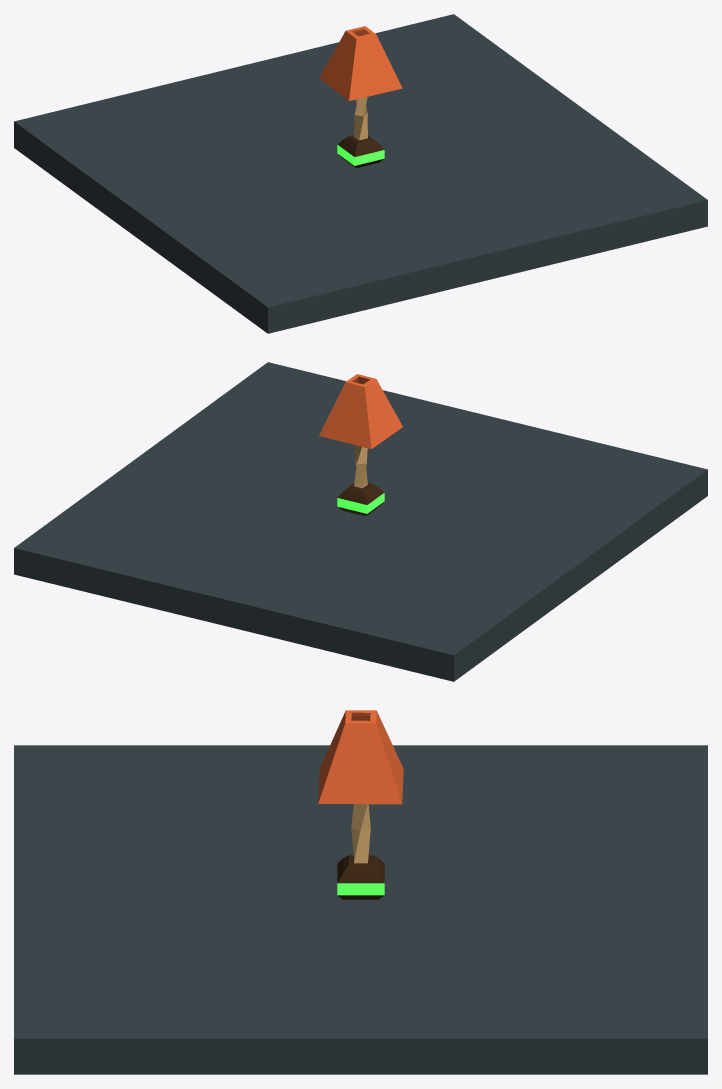
File: lamp2.glb
3 views of the same model, one above another, from view 1: azimuth 30°, elevation 25°; view 2: azimuth 150°, elevation 25°; view 3: azimuth 270°, elevation 25° (orthographic). The views are drawn at different scales.
Parts seen in each view (by area): view 1: Cube; view 2: Cube; view 3: Cube.
Boxes of the visible parts, x1=… form: Cube: x1=14, y1=14, x2=707, y2=333; Cube: x1=14, y1=362, x2=707, y2=681; Cube: x1=14, y1=710, x2=707, y2=1074.
Bounding box in the file's own units: 39.23 × 13.18 × 39.23.
Materials: 1 (1 with a texture image).
